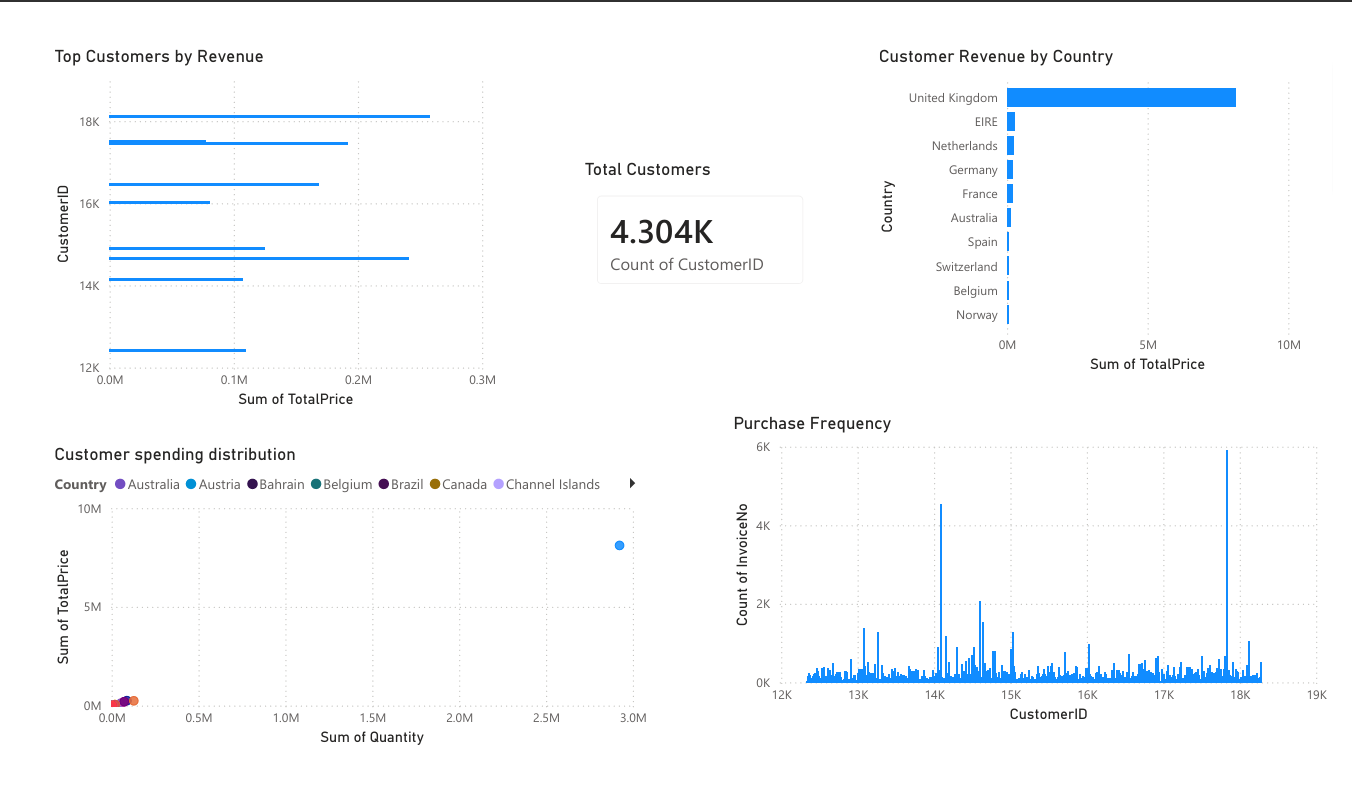

What the dashboard file says about the page in this screenshot:
{"tool":"powerbi","page":{"name":"Customer Analytics Dashboard","canvas":[1280,720],"ordinal":3},"visuals":[{"type":"cardVisual","title":"Total Customers","fields":{"Data":["Count(data.CustomerID)"]},"box":[545.7,128.6,235.7,140],"z":0},{"type":"clusteredBarChart","title":"Top Customers by Revenue","fields":{"Y":["Sum(data.TotalPrice)"],"Category":["data.CustomerID"]},"box":[28.6,18.6,441.4,358.6],"z":1000},{"type":"clusteredBarChart","title":"Customer Revenue by Country","fields":{"Y":["Sum(data.TotalPrice)"],"Category":["data.Country"]},"box":[832.9,18.6,421.4,324.3],"z":2000},{"type":"clusteredColumnChart","title":"Purchase Frequency","fields":{"Category":["data.CustomerID"],"Y":["CountNonNull(data.InvoiceNo)"]},"box":[691.4,377.1,588.6,307.1],"z":3000},{"type":"scatterChart","title":"Customer spending distribution","fields":{"X":["Sum(data.Quantity)"],"Y":["Sum(data.TotalPrice)"],"Series":["data.Country"]},"box":[28.6,407.1,588.6,298.6],"z":4000}]}

Visuals, with their boxes on the page's 1280x720 design canvas (x1, y1, x2, y2). These are canvas units, not pixel positions in the 1352x787 screenshot, which may show the page scaled, cropped or inside an application window:
"Total Customers" cardVisual: bbox(546, 129, 781, 269)
"Top Customers by Revenue" clusteredBarChart: bbox(29, 19, 470, 377)
"Customer Revenue by Country" clusteredBarChart: bbox(833, 19, 1254, 343)
"Purchase Frequency" clusteredColumnChart: bbox(691, 377, 1280, 684)
"Customer spending distribution" scatterChart: bbox(29, 407, 617, 706)
